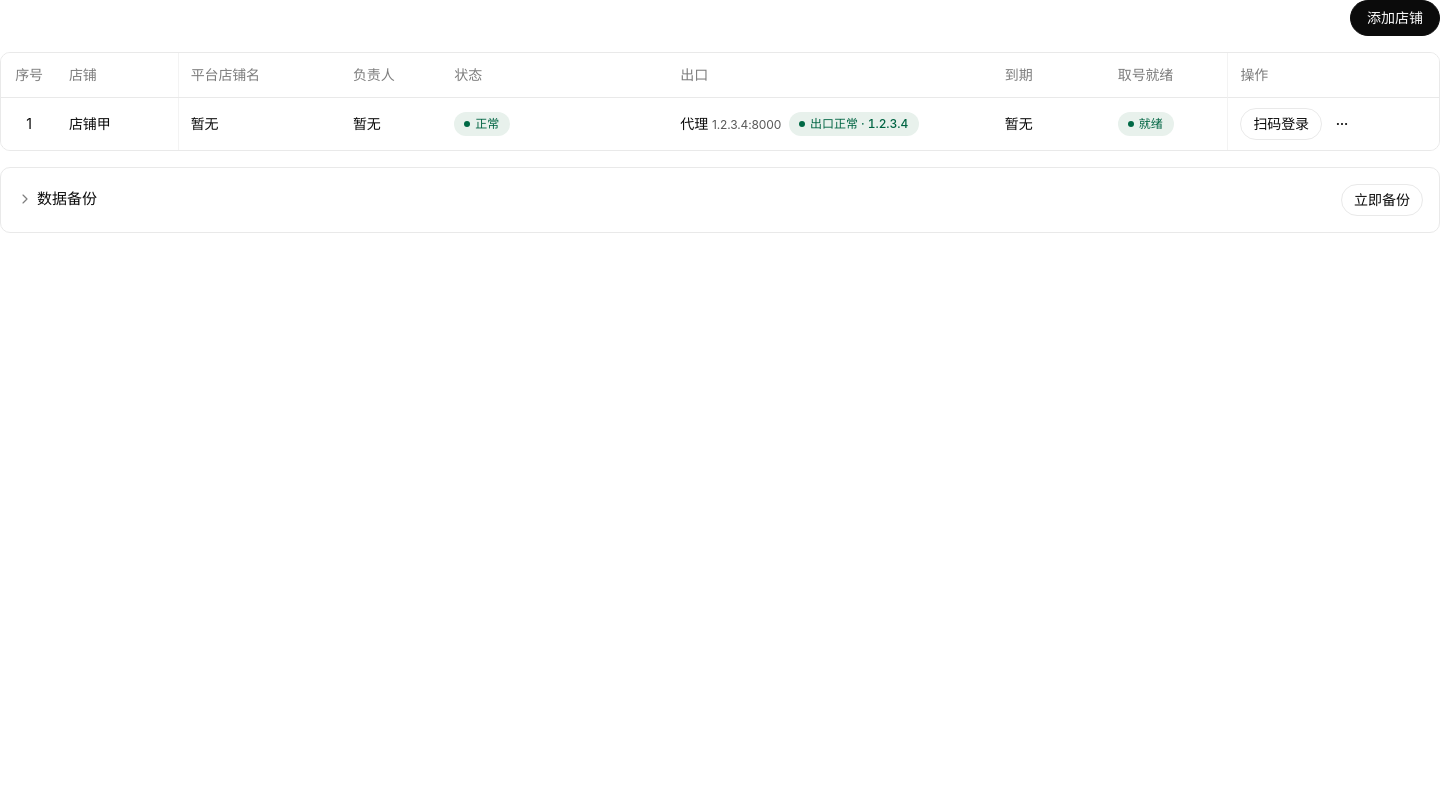
it: 设置出口 › 已登录的店铺：确认框点取消，不提交，出口弹窗保留已填内容
Click the button named "更多操作".
click(1342, 124)  # box 1326,108 -> 1358,140
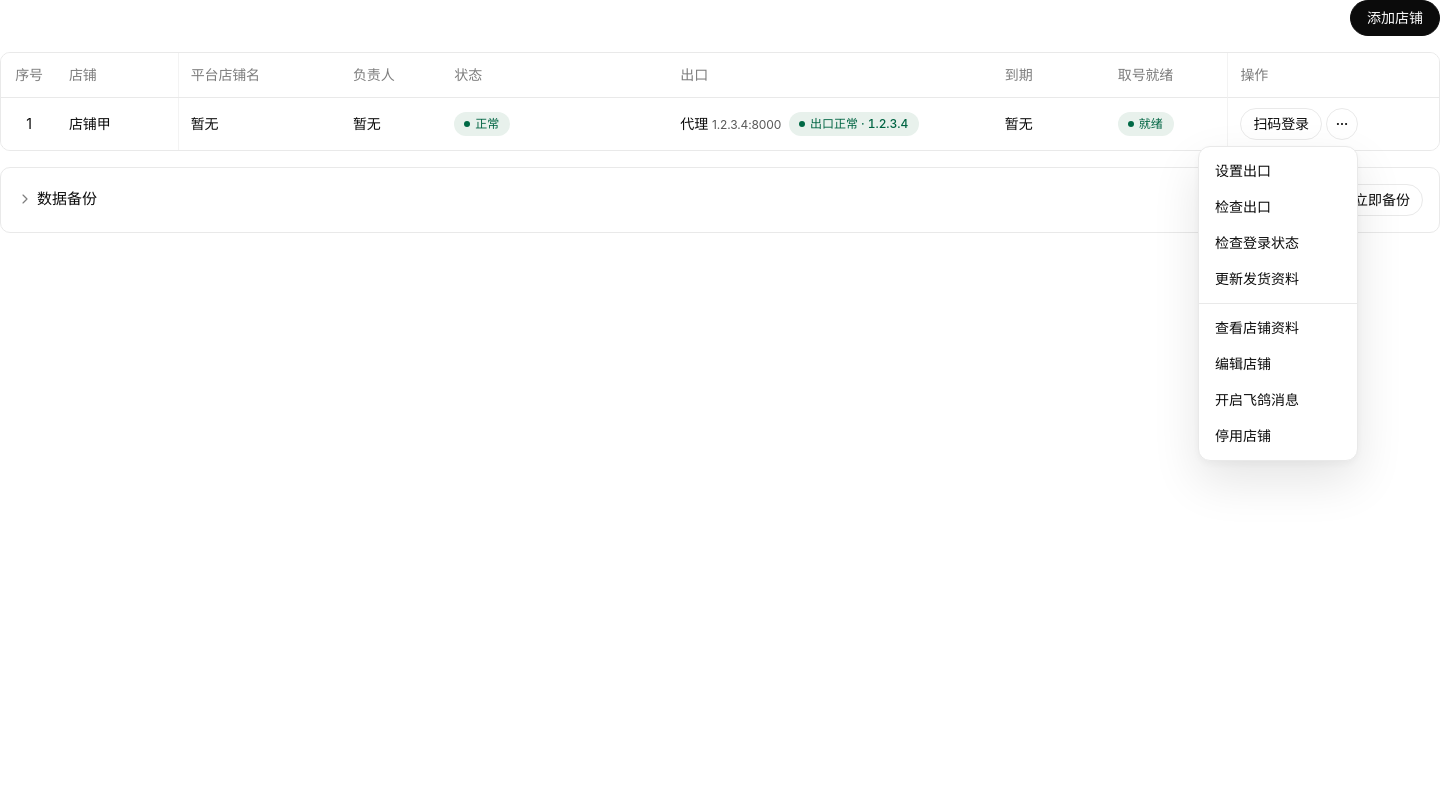
Click the menu item "设置出口".
click(1243, 171)  # box 1215,162 -> 1271,179
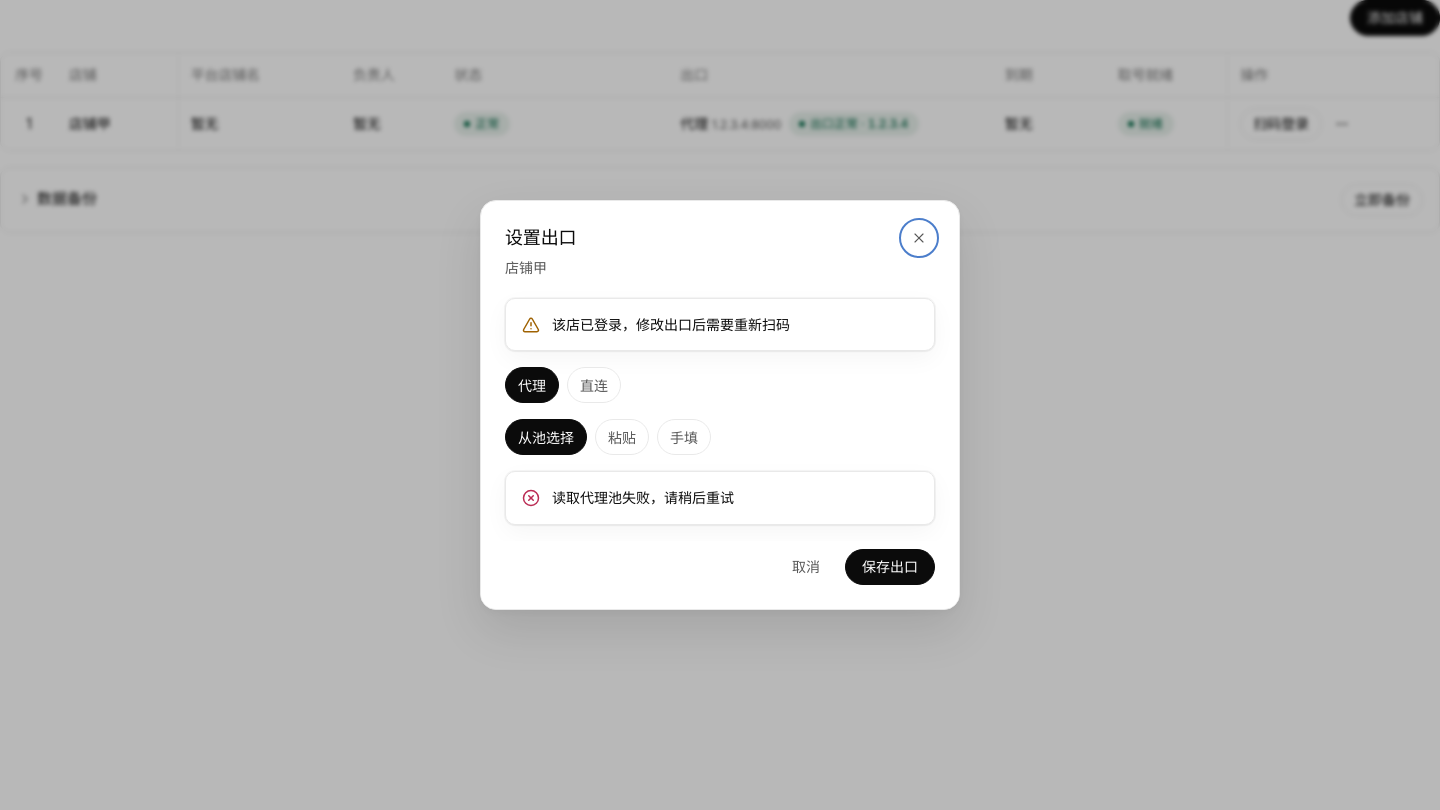
expect the text "该店已登录，修改出口后需要重新扫码" is shown: met, box 552,316 -> 790,333
Click the button "直连".
click(594, 385)  # box 567,367 -> 621,403
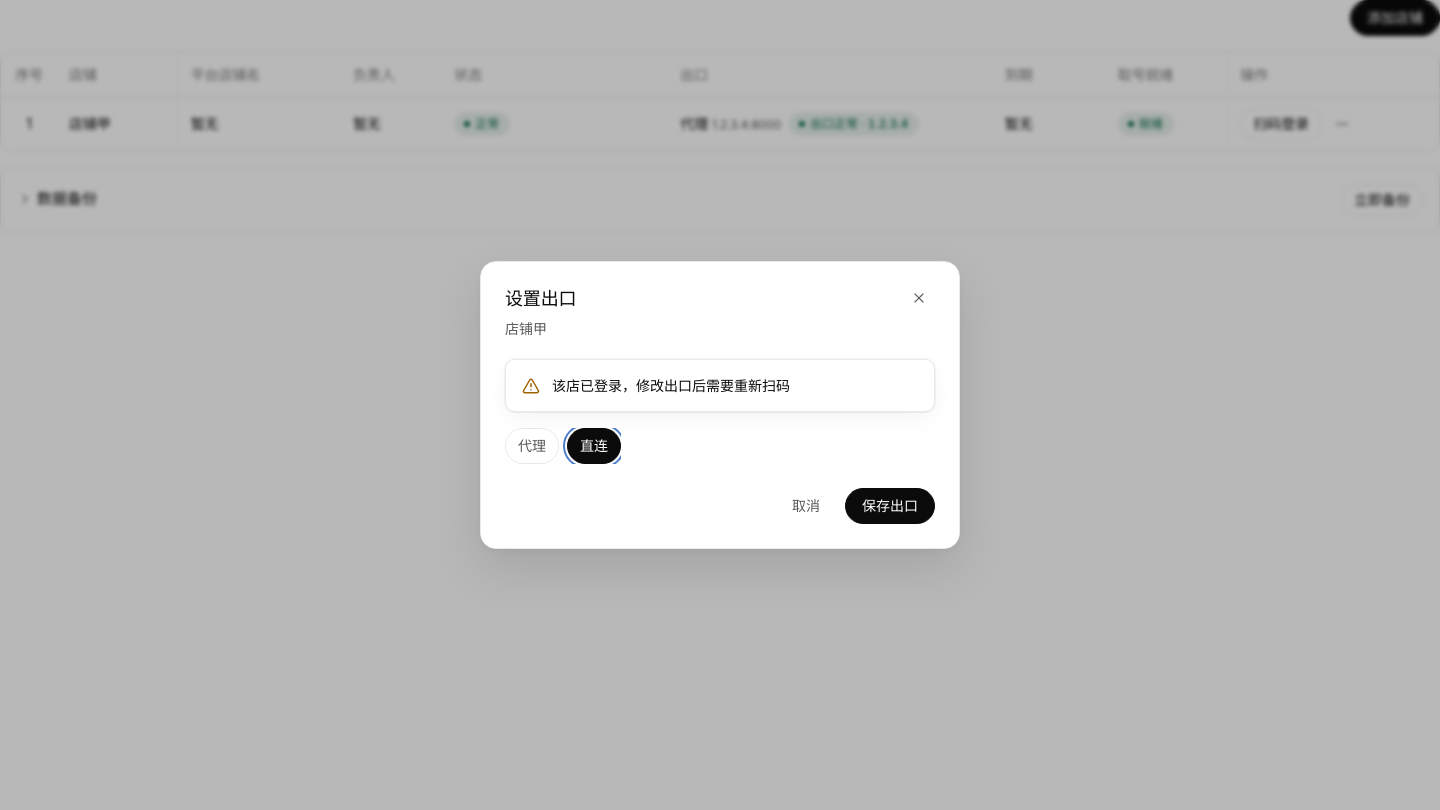
Click the button "保存出口".
click(890, 506)  # box 845,488 -> 935,524
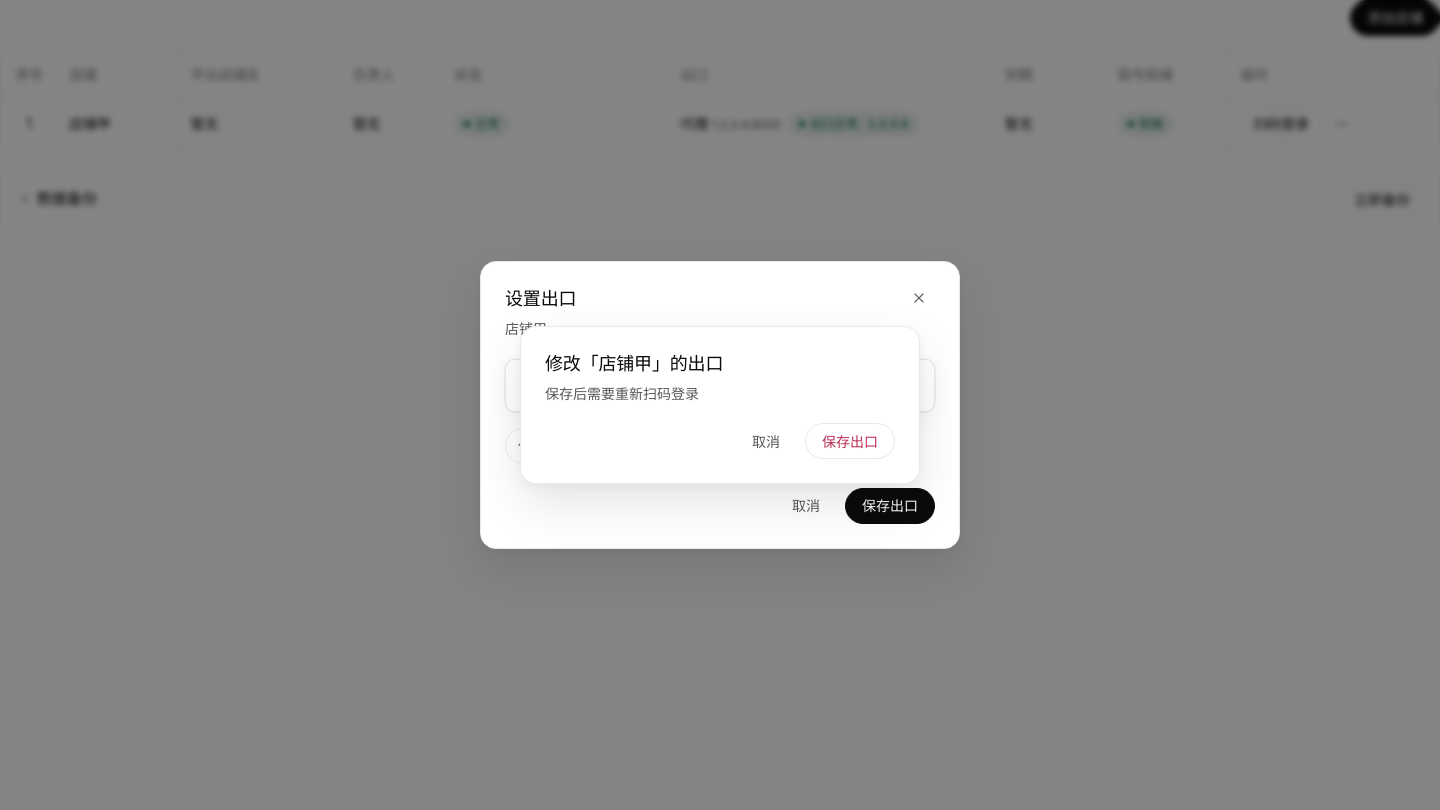
Click the button "取消".
click(766, 441)  # box 735,423 -> 797,459
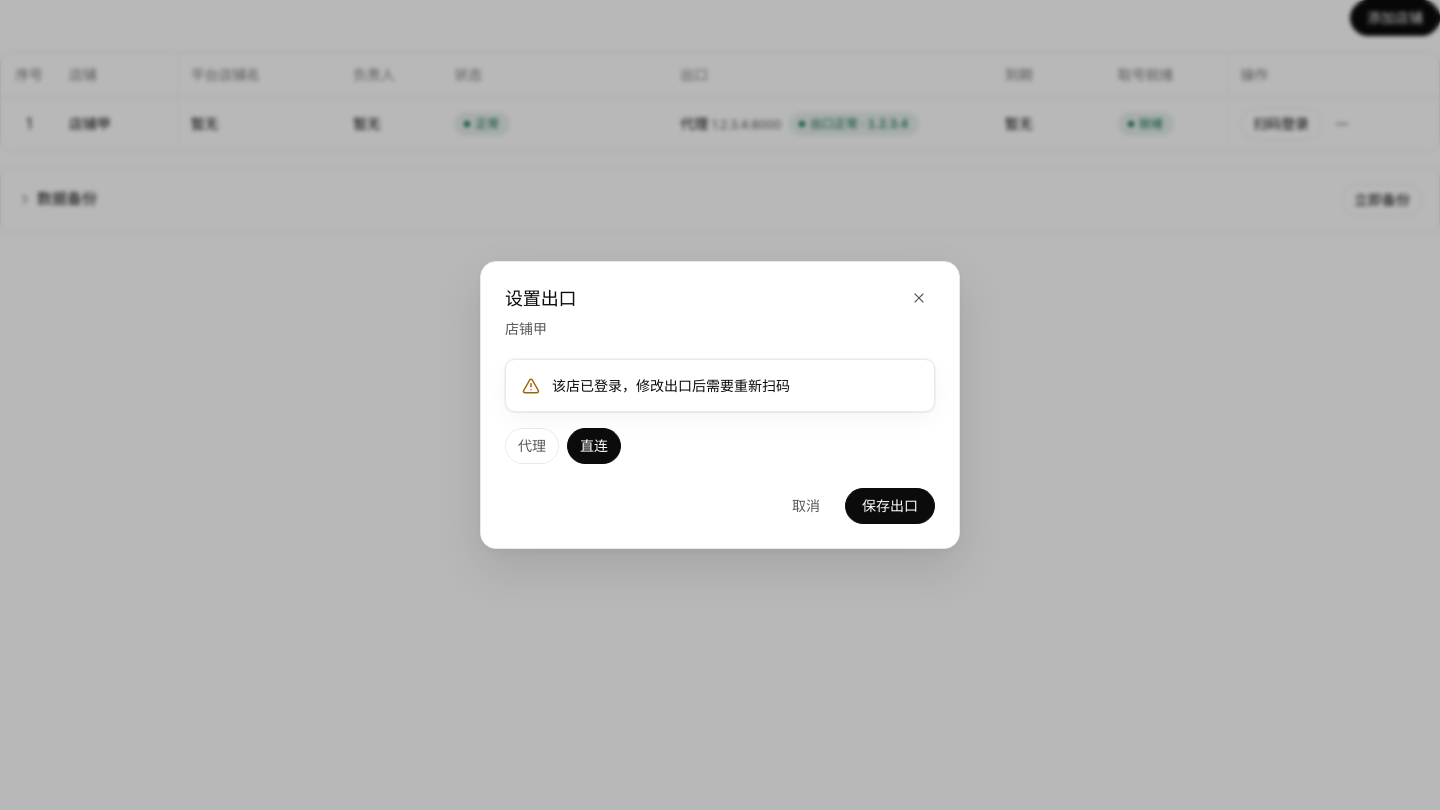
expect the dialog "设置出口" is shown: met, box 480,261 -> 960,549
expect the text "修改「店铺甲」的出口" is gone: met
